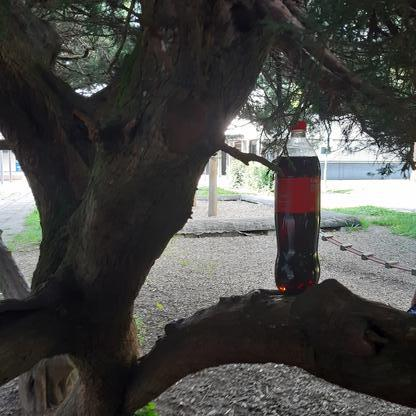coca-cola: (272, 121, 323, 294)
